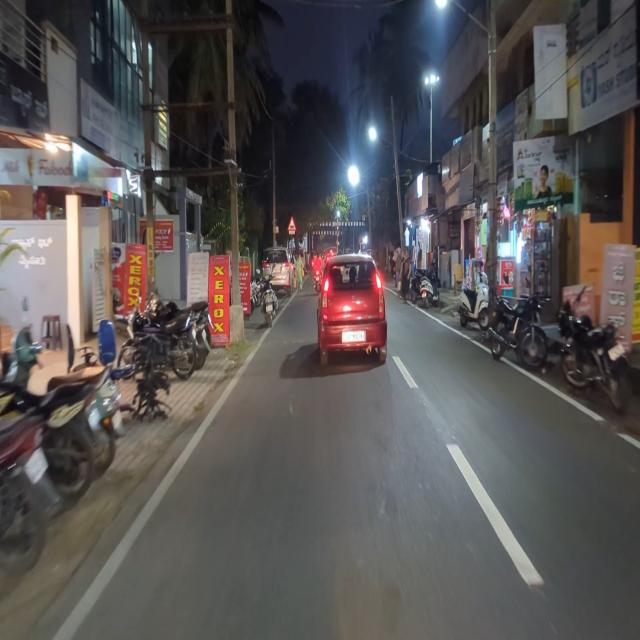bien_cam: (286, 214, 297, 230)
